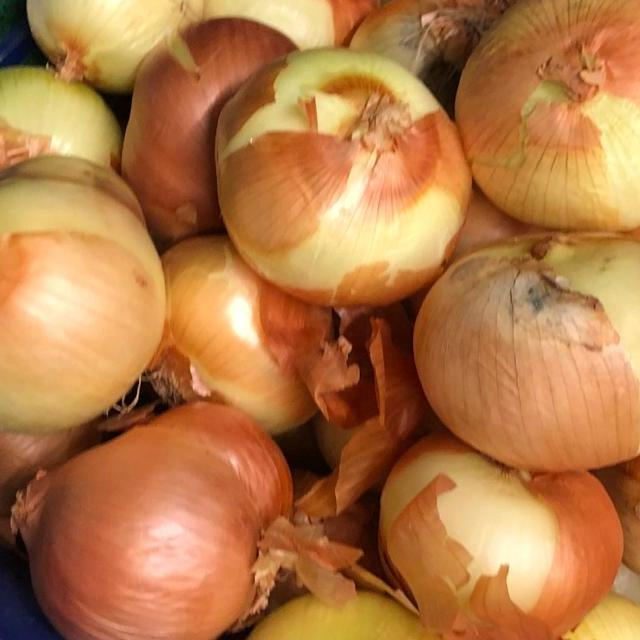onion: (202, 38, 485, 308), (407, 207, 640, 482), (0, 147, 182, 432), (457, 0, 640, 217), (210, 552, 487, 640), (25, 0, 205, 85)
